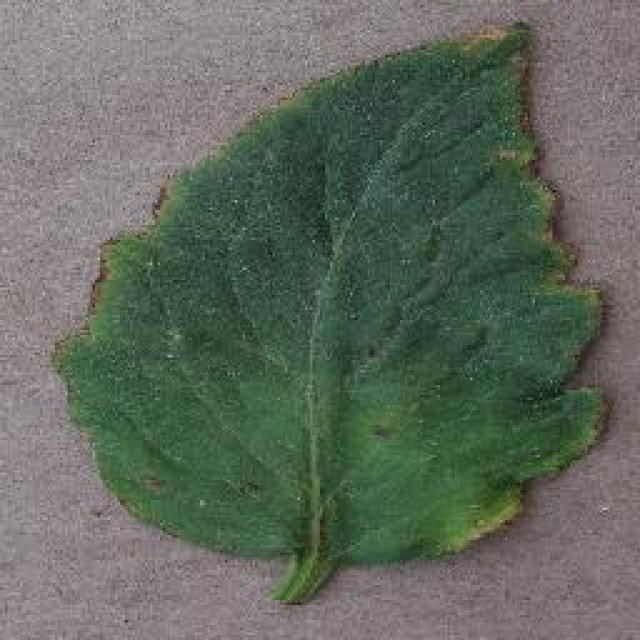Tomato___Bacterial_spot: (44, 21, 613, 612)
